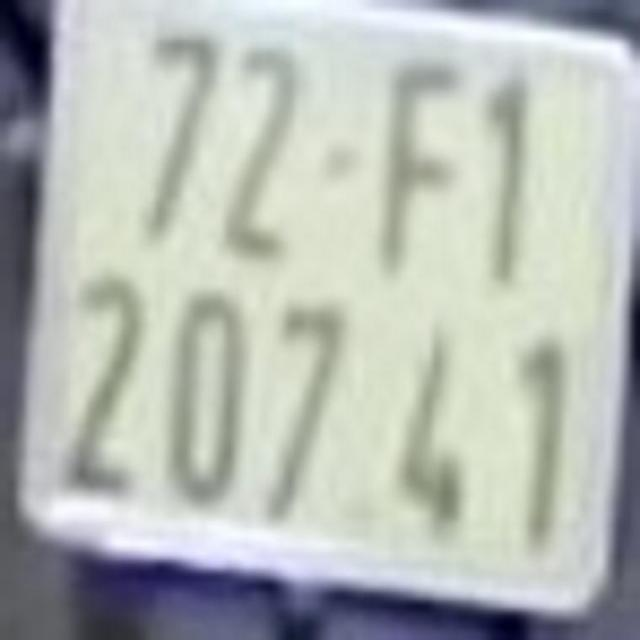0: (167, 276, 244, 502)
1: (472, 59, 542, 288), (504, 326, 576, 548)
2: (63, 264, 149, 495), (224, 36, 297, 260)
4: (392, 314, 475, 537)
7: (261, 288, 347, 514), (142, 24, 213, 241)
F: (385, 50, 459, 277)
